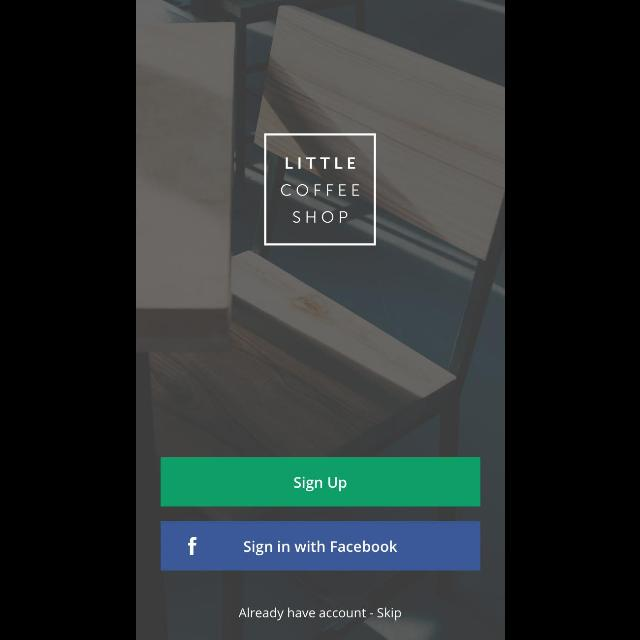backgroundimage: (136, 1, 504, 640)
image: (264, 134, 376, 246)
text: (238, 607, 400, 621)
textbutton: (160, 457, 480, 507), (160, 521, 480, 571)
